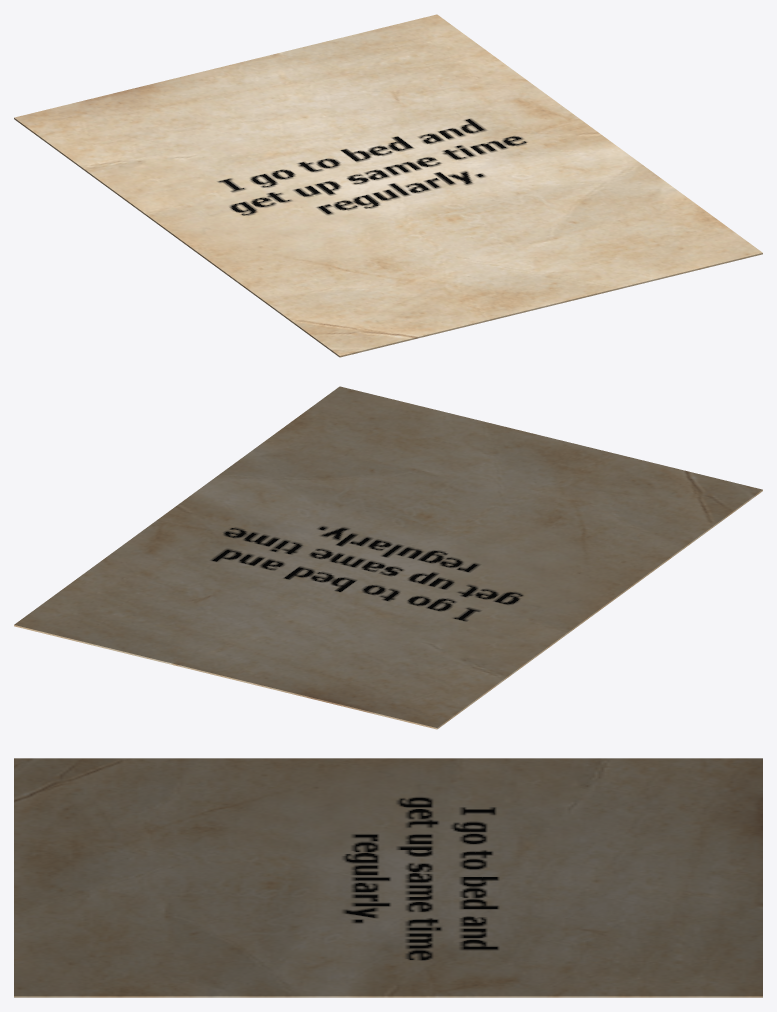
File: Paper_Animation_02.FBX
The picture shows the model from 3 angles, top to bottom: view 1: azimuth 30°, elevation 25°; view 2: azimuth 150°, elevation 25°; view 3: azimuth 270°, elevation 25°; orthographic projection. The views are drawn at different scales.
Visible parts, largest first — view 1: Paper007; view 2: Paper007; view 3: Paper007.
Part boxes in pixels (box(x1,y1,x2,y2)): Paper007: box(14, 14, 762, 357); Paper007: box(14, 386, 762, 729); Paper007: box(14, 758, 762, 997).
Size of the model in its own units: 30 by 0.1 by 40.
